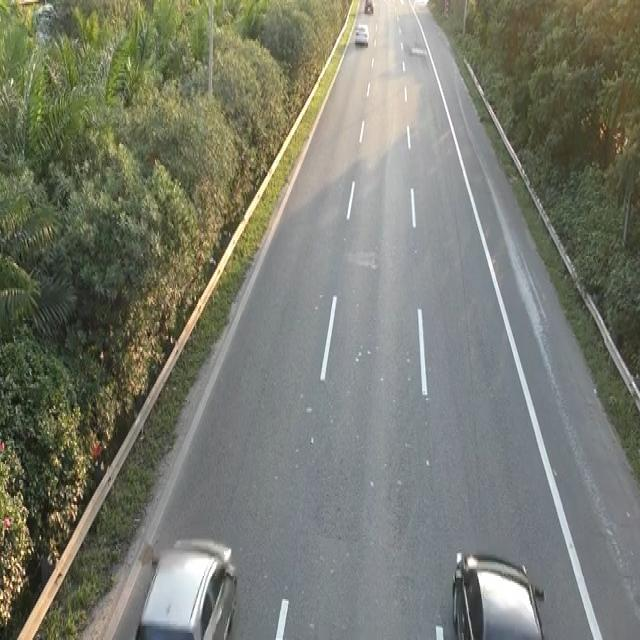bus: (134, 534, 239, 636), (450, 546, 549, 638), (353, 22, 370, 46)
